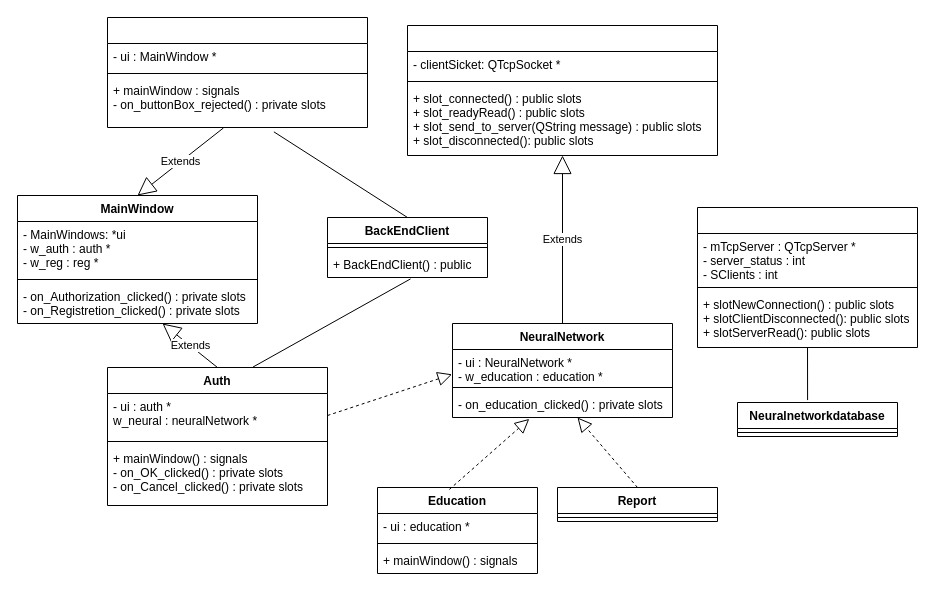
This 935x594 diagram has some shape labels left out. The shapes that lost their labels are listed below. From the top down, each one's box as (x1, y1, x2, y2) in pixels, then its label:
(106, 16, 368, 128): Reg
(406, 24, 718, 156): MyTcpClient
(696, 206, 918, 348): MyTcpServer
